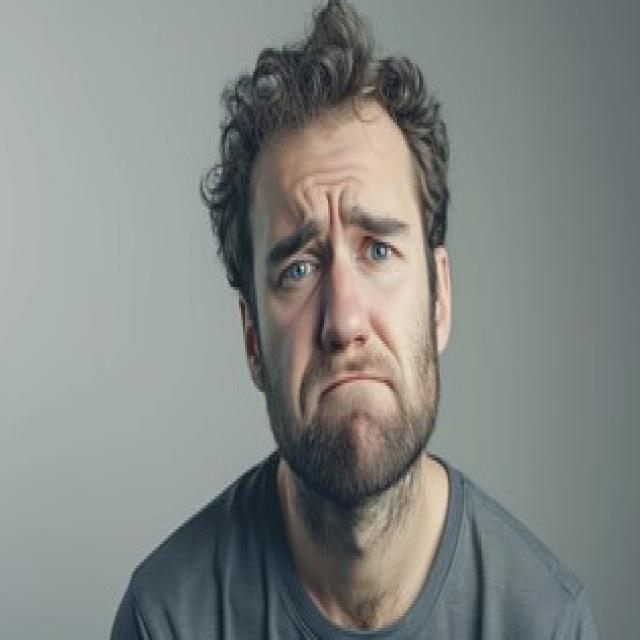sad: (239, 176, 441, 478)
